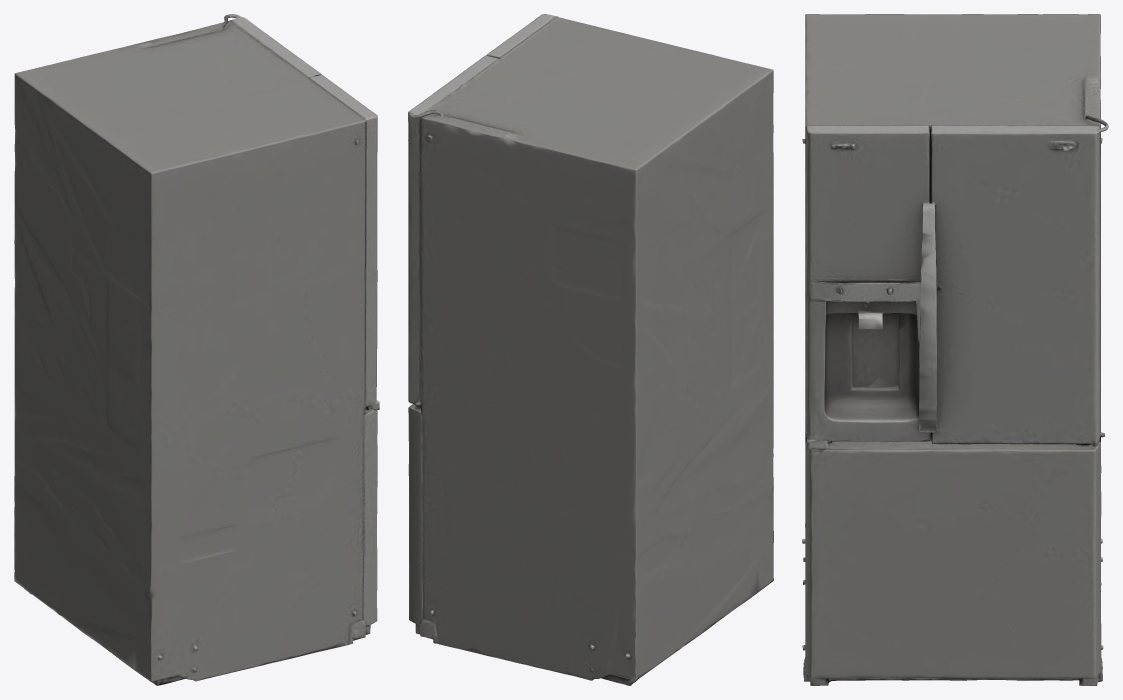
Rendered from prop_fridge-B21K7CeM.glb.
3 renders of one model, left to right at view 1: azimuth 30°, elevation 25°; view 2: azimuth 150°, elevation 25°; view 3: azimuth 270°, elevation 25°, orthographic. The views are drawn at different scales.
Parts seen in each view (by area): view 1: tripo_node_f8afe358-6bb3-4ba4-b2ee-99a14b321a2e; view 2: tripo_node_f8afe358-6bb3-4ba4-b2ee-99a14b321a2e; view 3: tripo_node_f8afe358-6bb3-4ba4-b2ee-99a14b321a2e.
Boxes of the visible parts, box(x1,y1,x2,y2) form: tripo_node_f8afe358-6bb3-4ba4-b2ee-99a14b321a2e: box(14, 14, 379, 685); tripo_node_f8afe358-6bb3-4ba4-b2ee-99a14b321a2e: box(408, 14, 773, 685); tripo_node_f8afe358-6bb3-4ba4-b2ee-99a14b321a2e: box(802, 14, 1108, 685).
Bounding box in the file's own units: 0.5053 × 0.9925 × 0.4869.
1 material, 1 textured.
